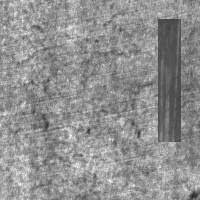crazing: (77, 9, 152, 138)
scratches: (158, 19, 181, 142)
